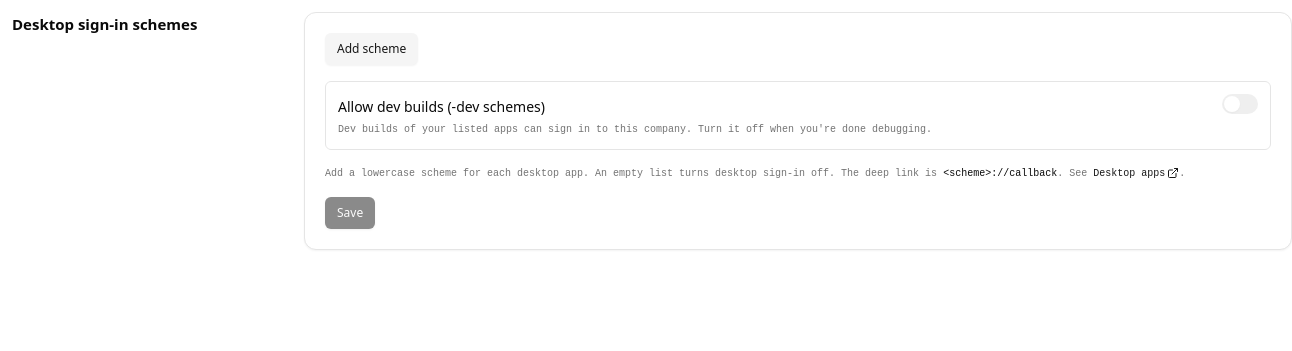
Scenario: CompanyDesktopSchemesSection › shows a server field error on the field
Expected: the text "<scheme>://callback" is shown, [943, 168, 1057, 179]
Click the button "Add scheme". click: {"x": 372, "y": 49}
box: [325, 33, 418, 65]
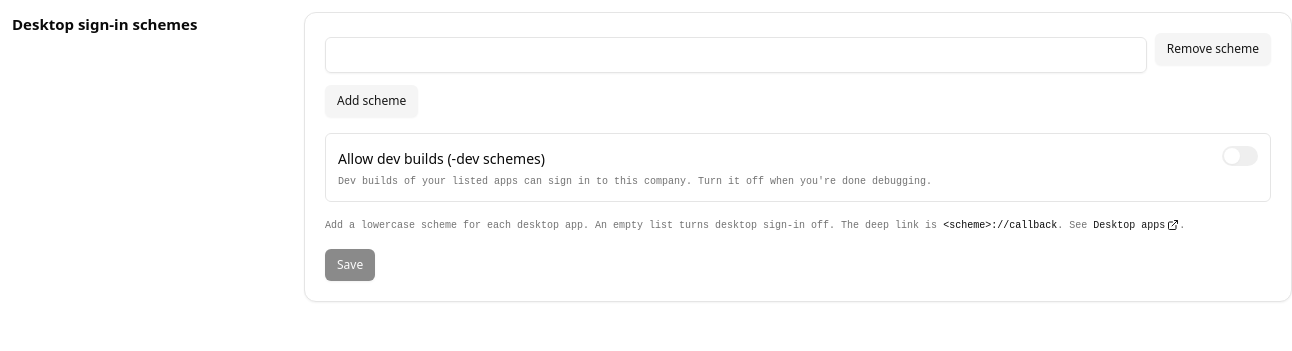
Type "shellui-playground" into the field named "desktop sign-in schemes 1". click: {"x": 736, "y": 55}
box: [325, 37, 1147, 73]
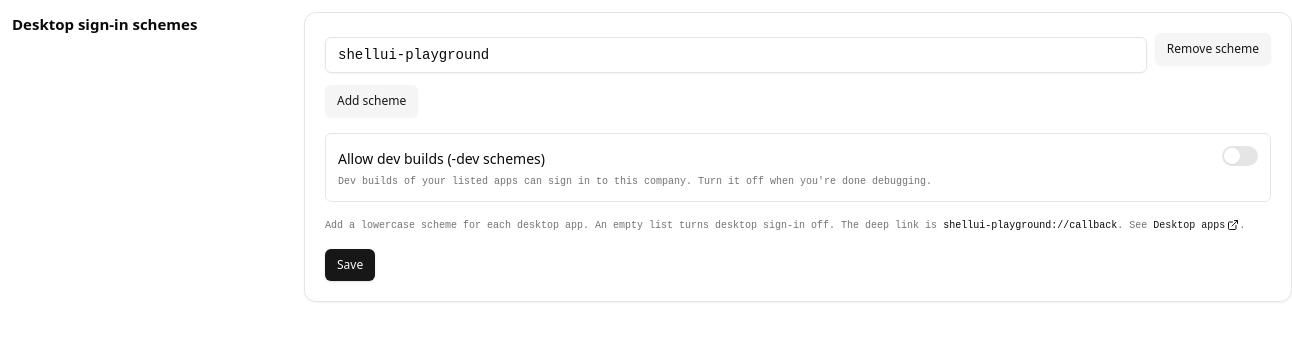
Click the button "Save". click: {"x": 350, "y": 265}
box: [325, 249, 375, 281]
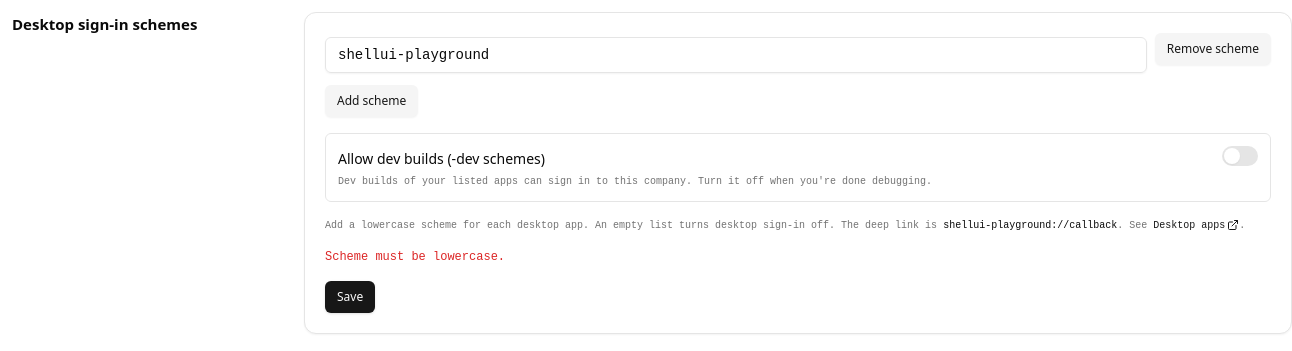
Expected: the text "Scheme must be lowercase." is shown, [325, 250, 505, 264]
